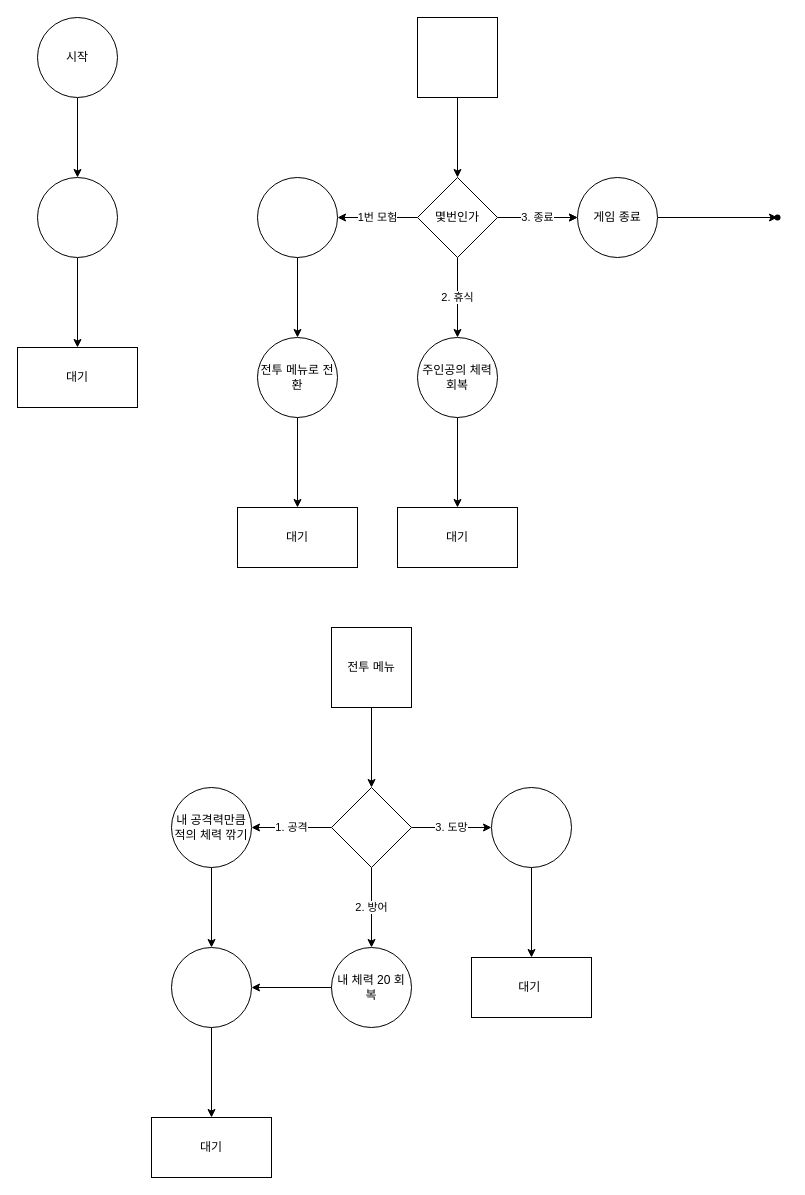
Image size: 805x1195. Some labels were removed from this diagram. Here are the shapes that lost their labels. From the top down, the centre of each, then its label:
At point 457,57: "메뉴 입력 버튼 클릭".
At point 77,217: "사용자 이름 작성".
At point 297,217: "적과 마주침".
At point 371,827: "몇번인가?".
At point 531,827: "일반 메뉴로 이동".
At point 211,987: "적의 공격력만큼 내 체력 깎기".
